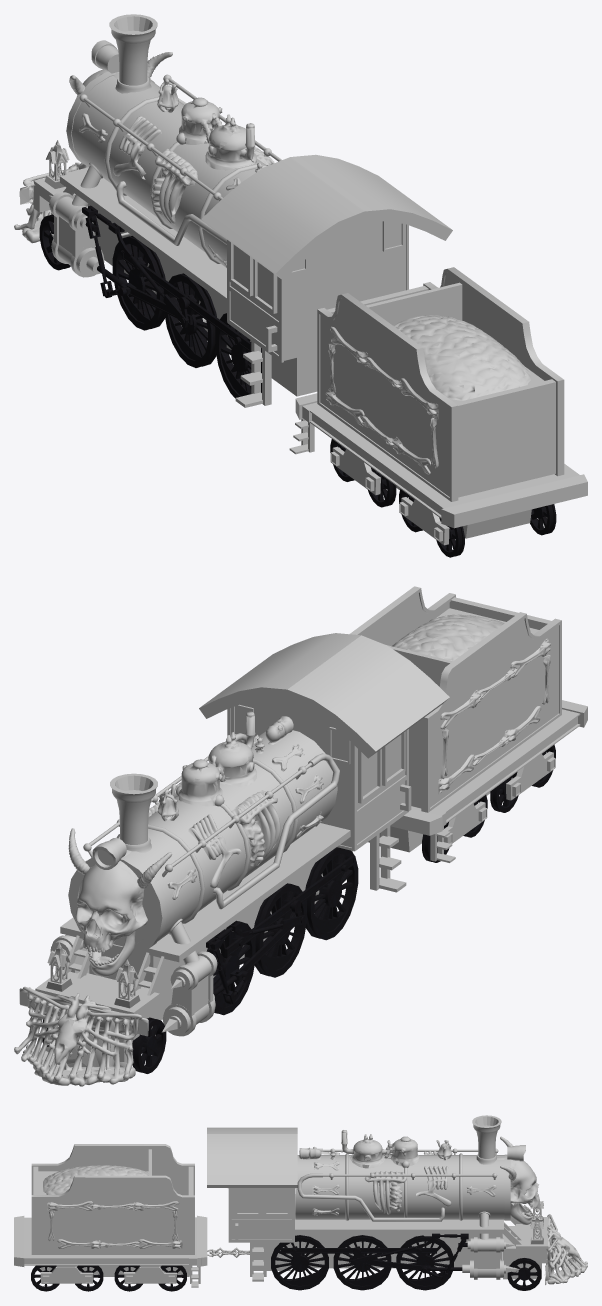
Rendered from Train F.fbx.
The picture shows the model from 3 angles, top to bottom: view 1: azimuth 30°, elevation 25°; view 2: azimuth 150°, elevation 25°; view 3: azimuth 270°, elevation 25°; orthographic projection. The views are drawn at different scales.
Visible parts, largest first — view 1: Object002, Object035, Object086, Object036, Box016, Object008; view 2: Object002, Object036, Object035, Object086, Object008, Box016; view 3: Object002, Object032, Object031, Object025, Box014, Object026, Box015, Object084, Object082, Object083, Line017, Object085.
Boxes of the visible parts, left/top/right/bottom form: Object002: left=14, top=14, right=587, bottom=545; Object035: left=164, top=273, right=216, bottom=367; Object086: left=112, top=236, right=165, bottom=330; Object036: left=215, top=313, right=261, bottom=398; Box016: left=122, top=250, right=251, bottom=351; Object008: left=39, top=214, right=70, bottom=270; Object002: left=14, top=586, right=587, bottom=1086; Object036: left=305, top=847, right=358, bottom=940; Object035: left=254, top=883, right=306, bottom=977; Object086: left=206, top=920, right=255, bottom=1015; Object008: left=132, top=1017, right=166, bottom=1073; Box016: left=224, top=855, right=354, bottom=957; Object002: left=14, top=1115, right=587, bottom=1287; Object032: left=271, top=1235, right=328, bottom=1290; Object031: left=333, top=1235, right=391, bottom=1290; Object025: left=396, top=1235, right=453, bottom=1290; Box014: left=281, top=1248, right=436, bottom=1253; Object026: left=507, top=1258, right=541, bottom=1290; Box015: left=349, top=1257, right=426, bottom=1271; Object084: left=75, top=1265, right=103, bottom=1291; Object082: left=158, top=1265, right=186, bottom=1291; Object083: left=114, top=1265, right=142, bottom=1291; Line017: left=350, top=1233, right=436, bottom=1265; Object085: left=31, top=1265, right=59, bottom=1291.
Size of the model in its own units: 33.97 by 46.58 by 156.
